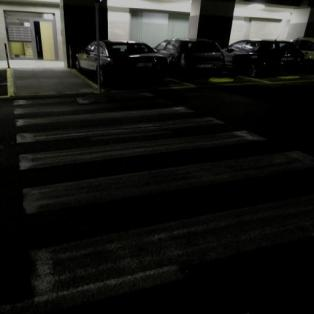Paso de Cebra: (7, 114, 280, 174)
